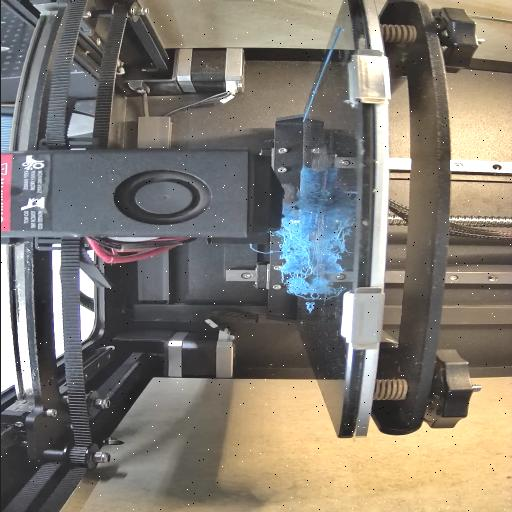spaghetti: (278, 220, 312, 298), (286, 188, 328, 220)
